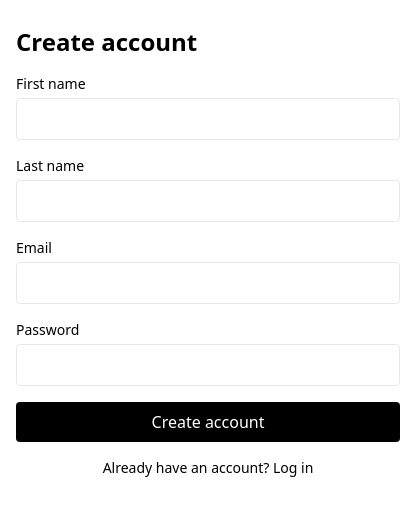
Test: RegisterPage › shows an error message when registration fails
The width and height of the screenshot is (417, 512).
Type "Ada" into the field labelled "First name". click: (208, 119)
box: [16,98,400,140]
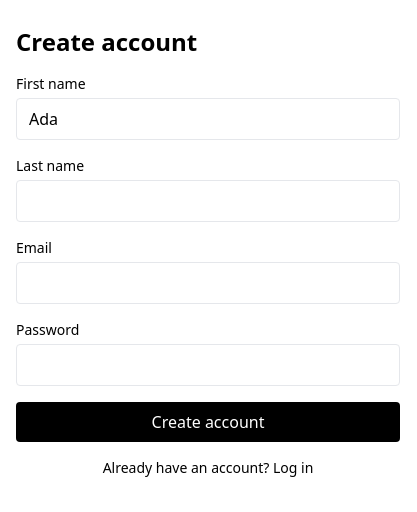
Type "Lovelace" into the field labelled "Last name". click: (208, 201)
box: [16,180,400,222]
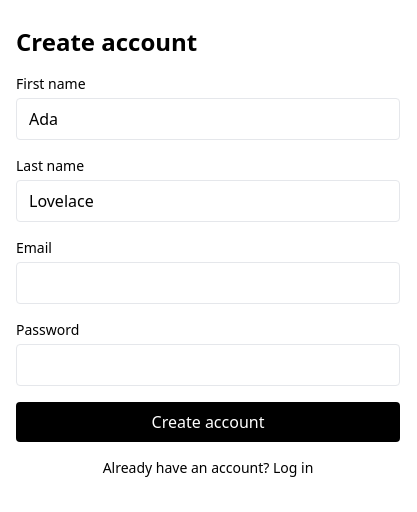
Type "dupe@example.com" into the field labelled "Email". click: (208, 283)
box: [16,262,400,304]
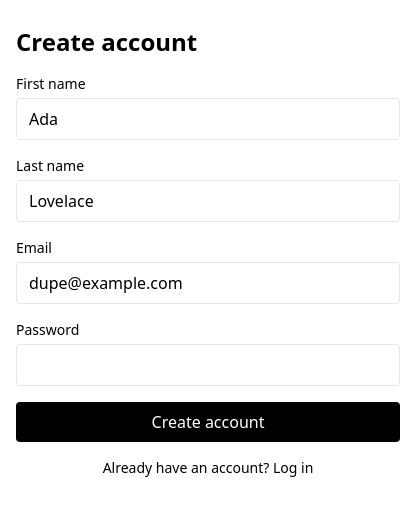
Type "Str0ng!Pass" into the password field labelled "Password". click: (208, 365)
box: [16,344,400,386]
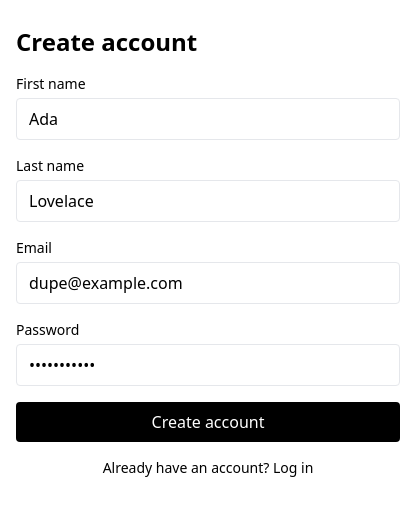
Click the button "Create account". click: (208, 422)
box: [16,402,400,442]
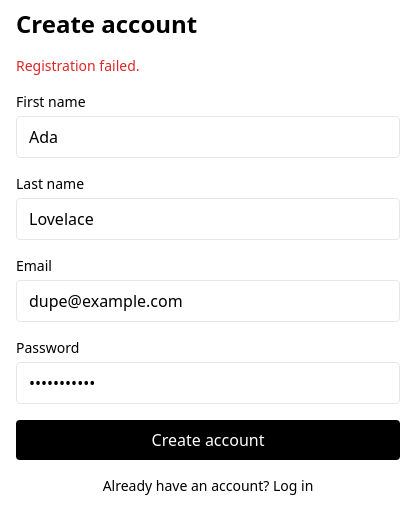
Expected: the message "Registration failed." is shown, [16,56,140,75]
